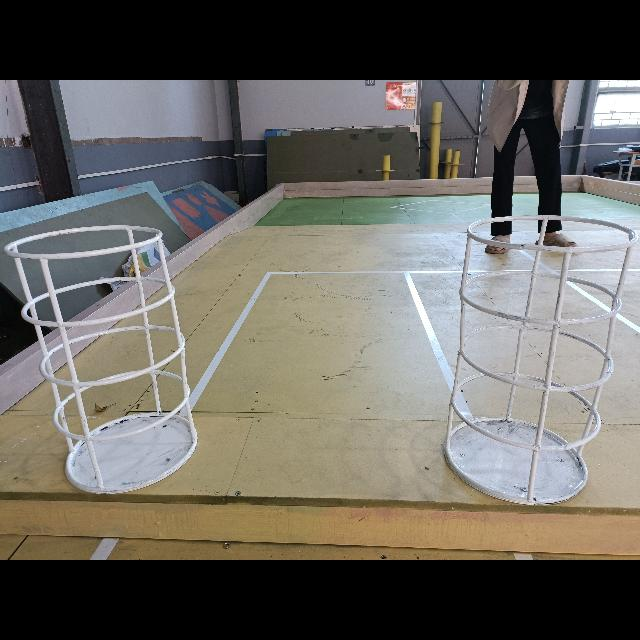S: (2, 224, 200, 497)
